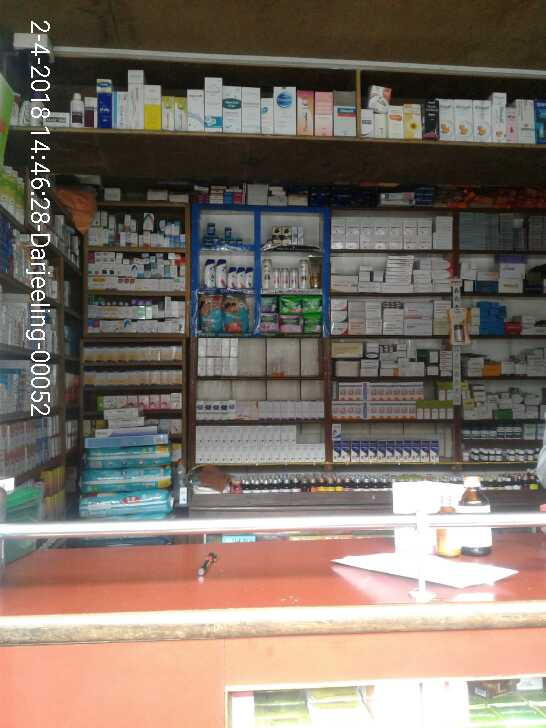vicks: (203, 218, 253, 249)
